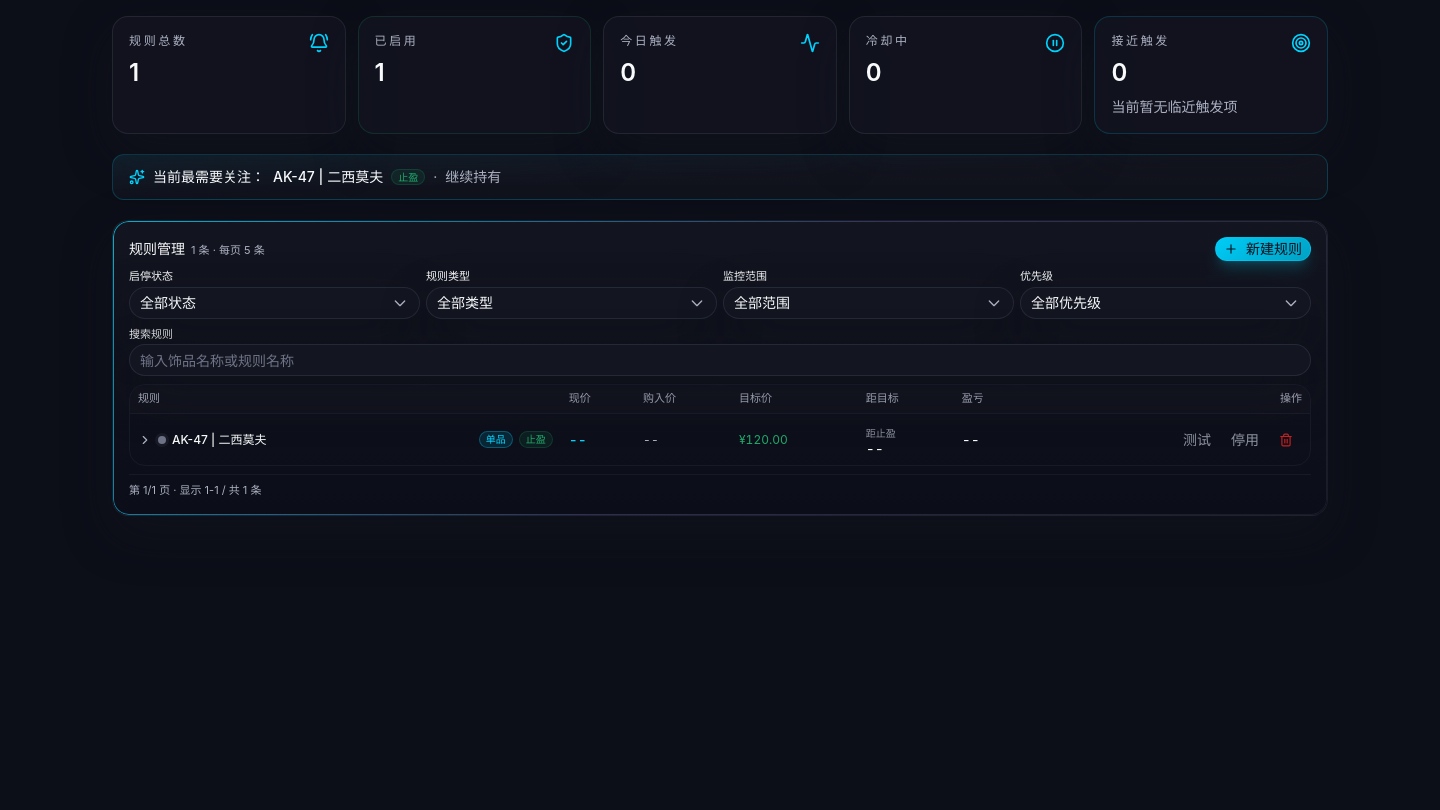
Test: AlertsPage › renders dry-run message from API response
Click the button "测试". click: (1197, 440)
box: [1174,428,1220,452]
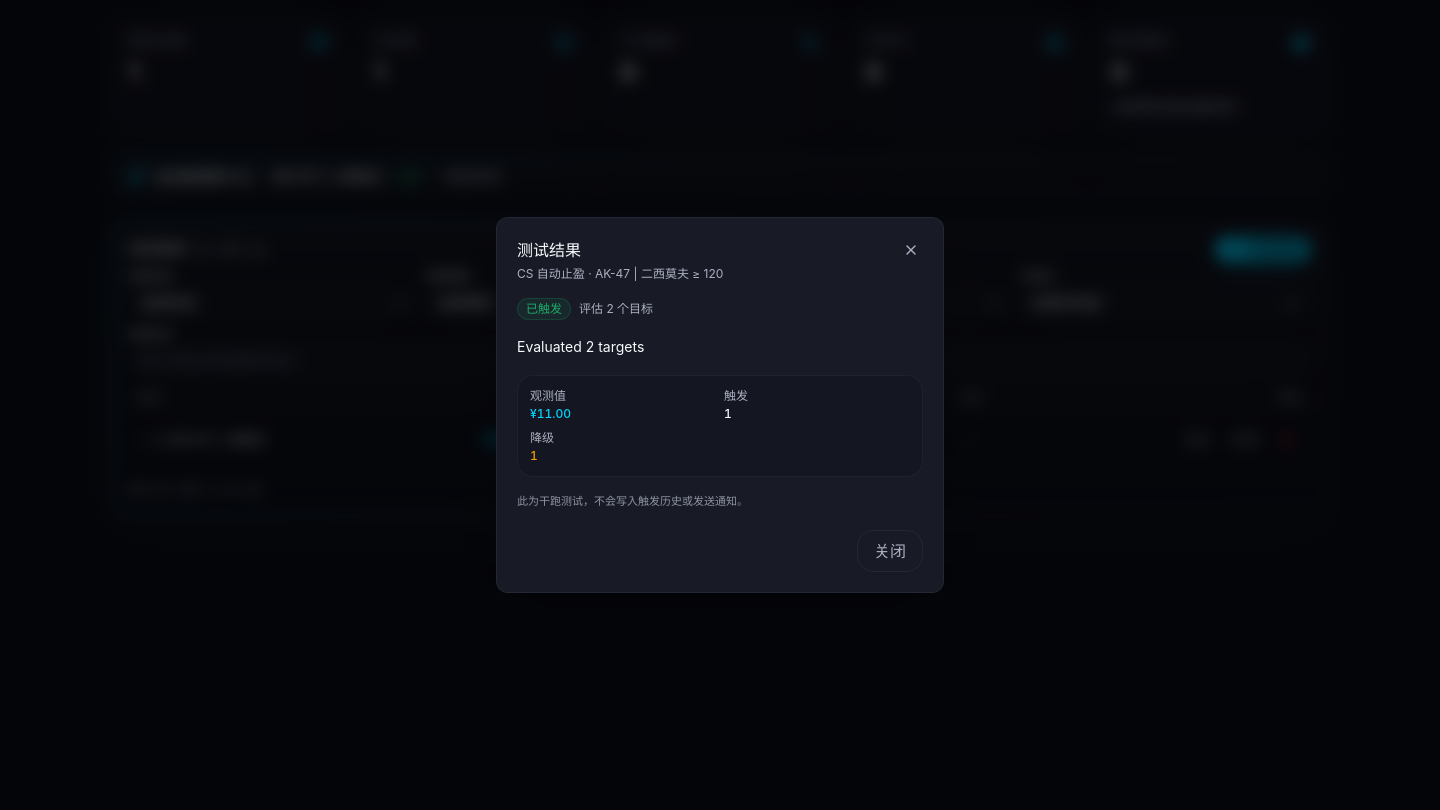
Expected: the text "Evaluated 2 targets" is shown, [517,338,644,355]
